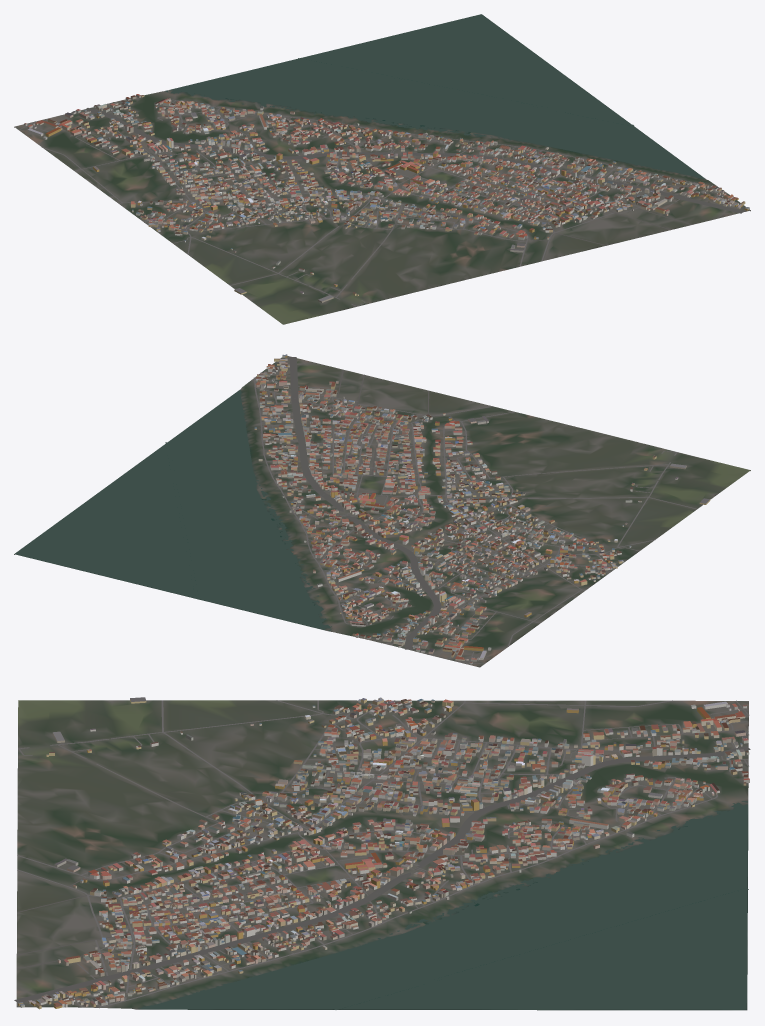
3 renders of one model, top to bottom at view 1: azimuth 30°, elevation 25°; view 2: azimuth 150°, elevation 25°; view 3: azimuth 270°, elevation 25°, orthographic. The views are drawn at different scales.
Parts seen in each view (by area): view 1: ground, buildings, water, roads; view 2: ground, buildings, water, roads; view 3: ground, buildings, water, roads.
Boxes of the visible parts, x1,y1,x2,y2 form: ground: [14, 14, 750, 324]; buildings: [24, 94, 749, 302]; water: [165, 14, 704, 178]; roads: [19, 99, 744, 306]; ground: [14, 356, 750, 667]; buildings: [254, 354, 710, 664]; water: [15, 389, 331, 630]; roads: [254, 357, 697, 664]; ground: [16, 700, 748, 1010]; buildings: [18, 697, 749, 1009]; water: [138, 801, 748, 1009]; roads: [14, 700, 750, 1008].
Size of the model in its own units: 1413 by 26.8 by 1414.
